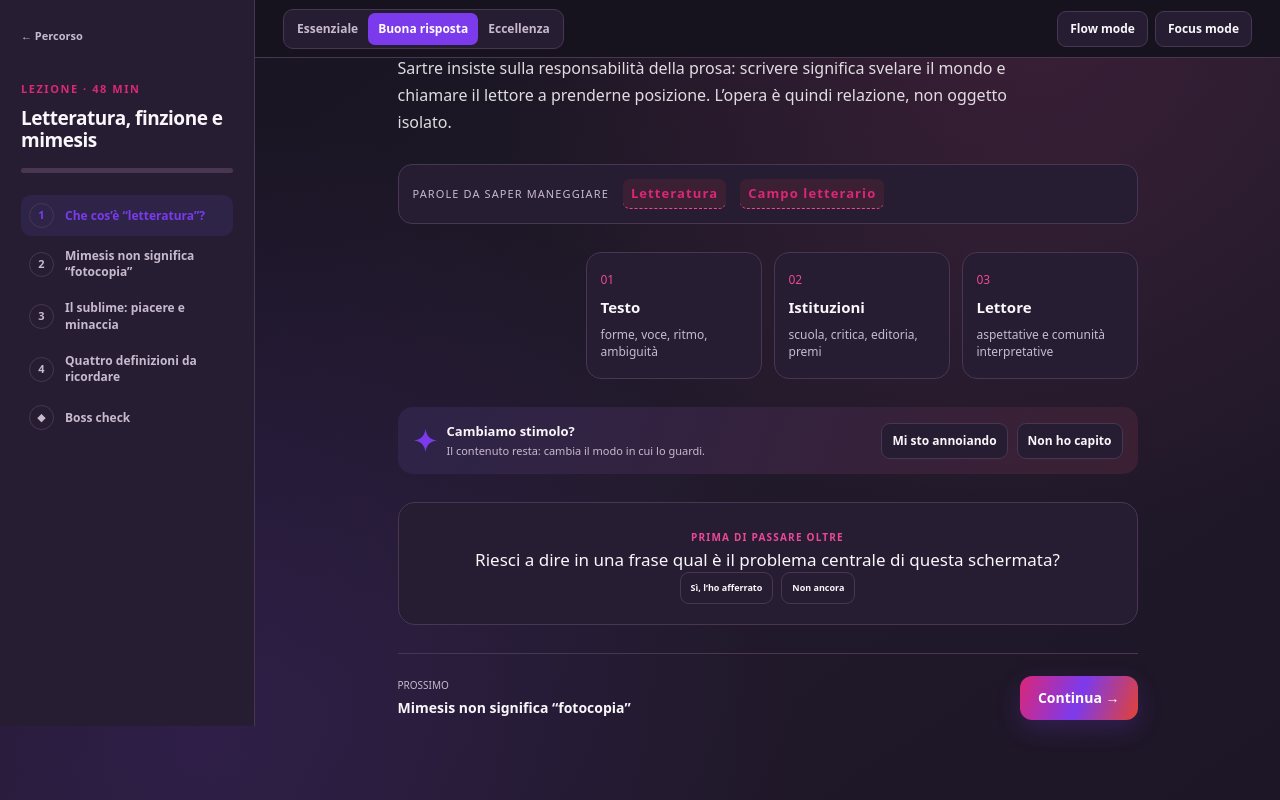
Test case: recupero attentivo nella lezione › mostra spiegazione, schema e risorse quando la risposta è Non ancora
The width and height of the screenshot is (1280, 800).
(page scrolled)
Click the button "Non ancora": (818, 588) [781, 572, 855, 604]
(page scrolled)
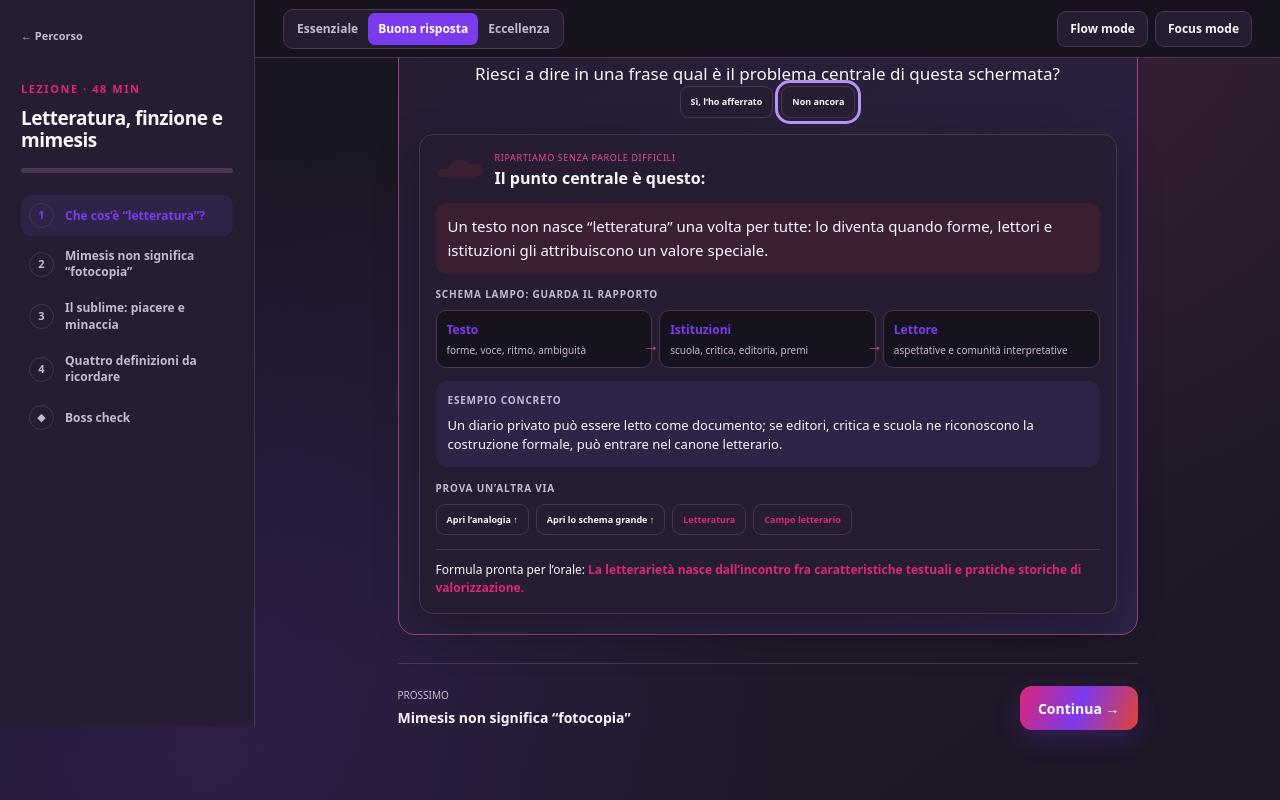
Result: the button "Non ancora" is expanded at [781, 86, 855, 118]
Result: the text "Il punto centrale è questo:" is shown at [494, 166, 705, 190]
Result: the text "Schema lampo: guarda il rapporto" is shown at [436, 287, 658, 301]
